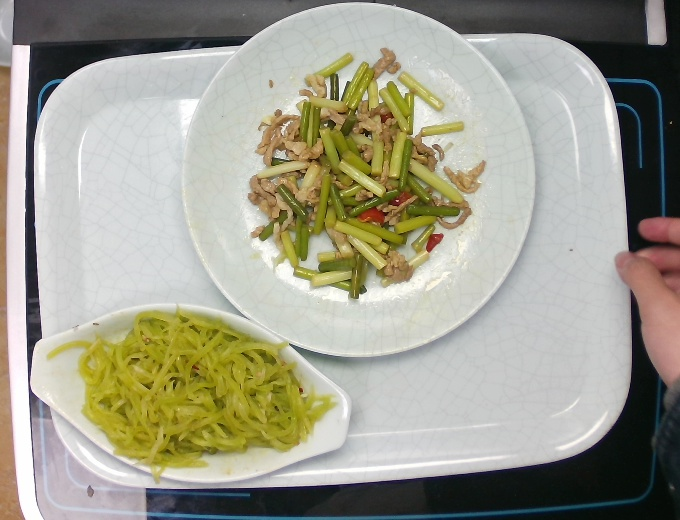JYsf-Da_Yuan_Pan: (178, 1, 537, 362)
JYsf-Yu_Pan: (23, 293, 359, 489)
